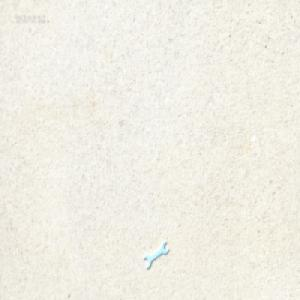Wrench: (143, 240, 167, 268)
